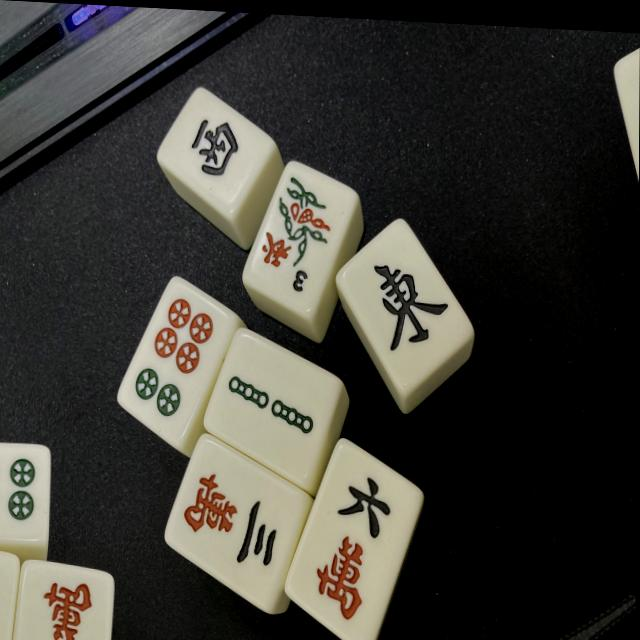east: (338, 220, 472, 398)
ff3: (243, 161, 357, 324)
m3: (161, 435, 308, 611)
m6: (285, 443, 425, 640)
s2: (201, 330, 340, 484)
t6: (115, 275, 239, 453)
west: (162, 90, 275, 219)
